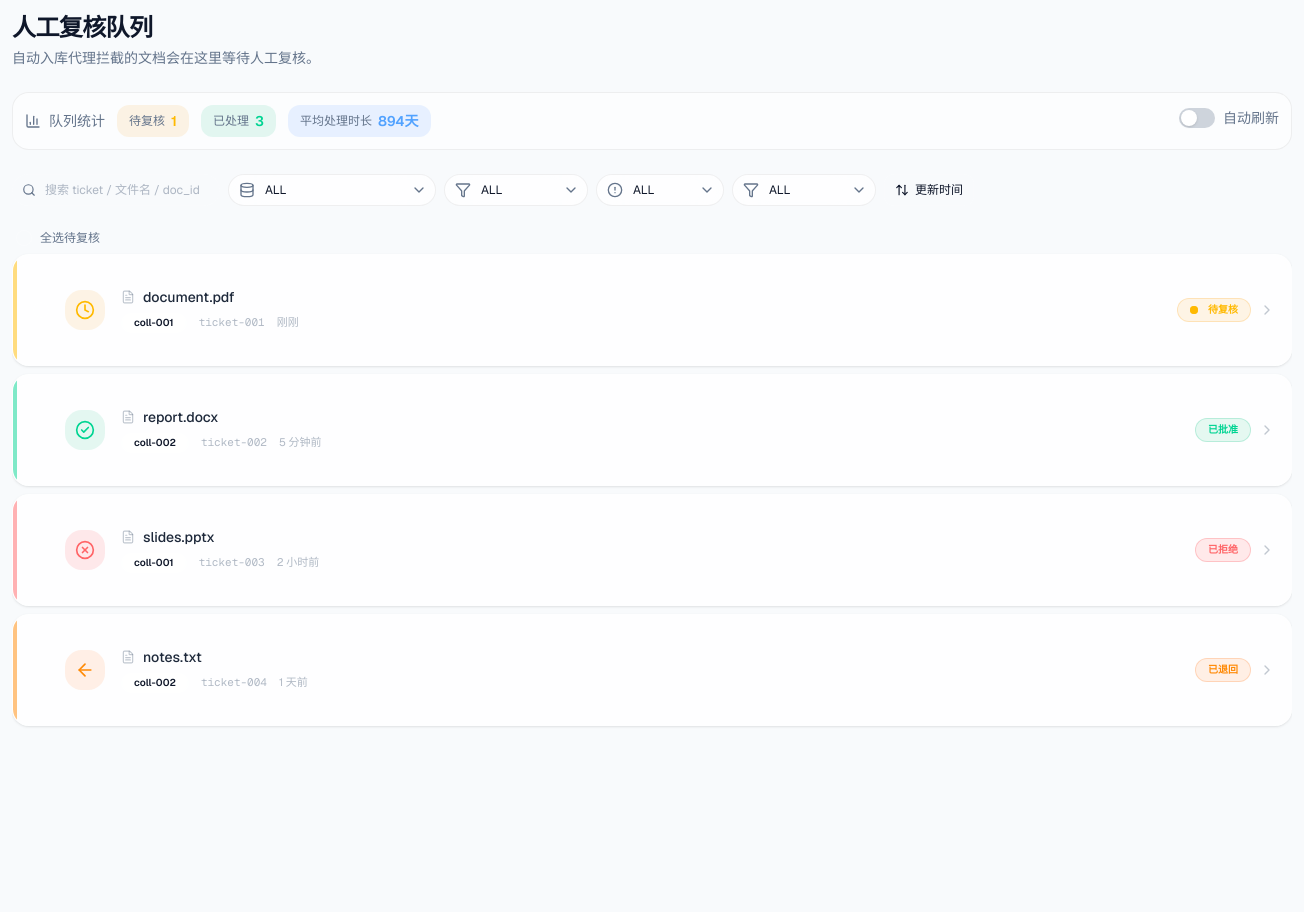
Scenario: ReviewQueuePage › Status Filter › filters tickets when selecting a status
Expected: the text "document.pdf" is shown, [143,287,234,307]
Note: Open status select (second combobox)
Step 1. Click the 2nd dropdown labelled "ALL ▼" → (516, 190), box [444,174,588,206]
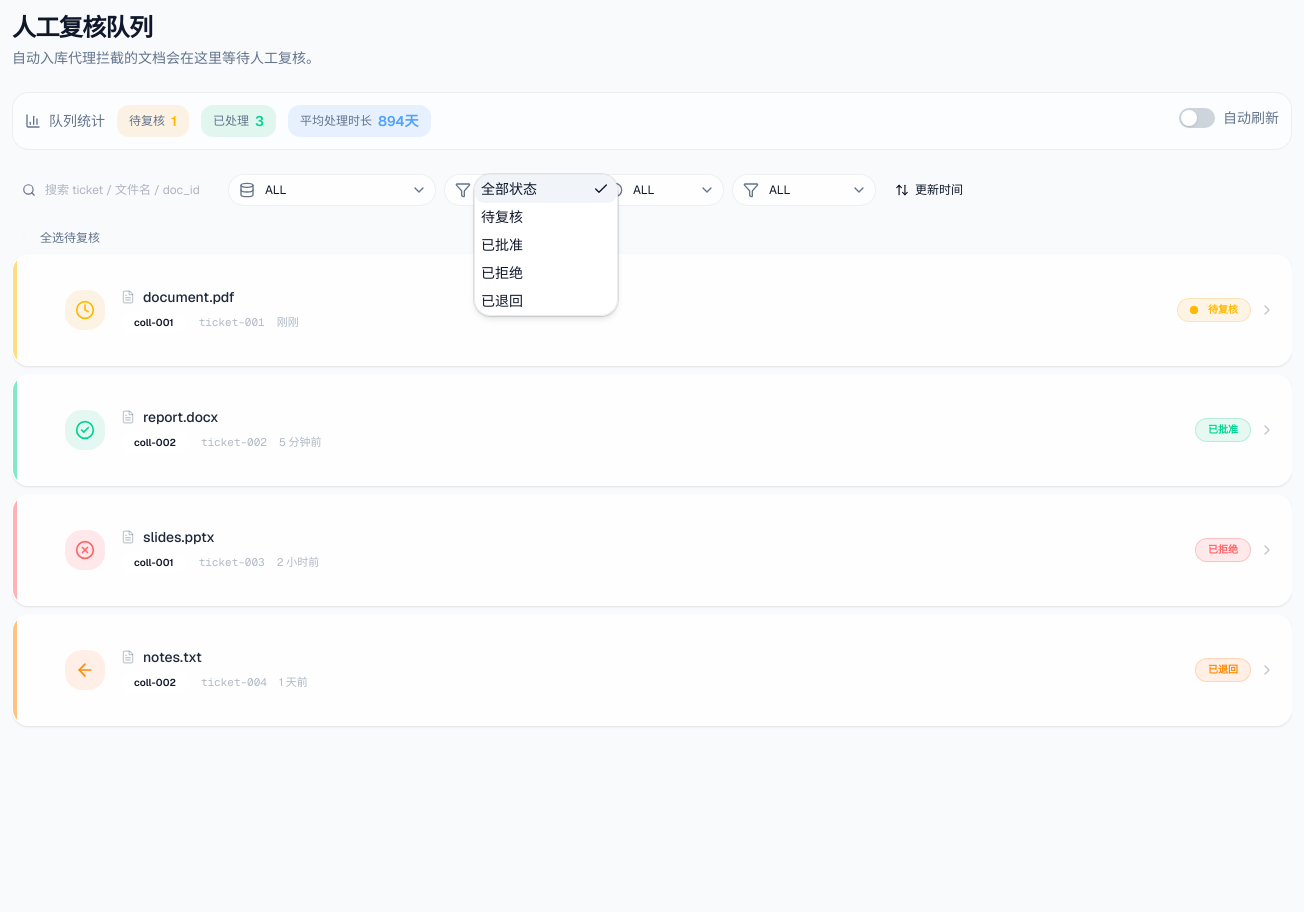
Expected: the option "全部状态" is shown, [475,175,617,203]
Expected: the option "已批准" is shown
Step 2. Click the option "已批准" → (502, 245), box [481,236,523,254]
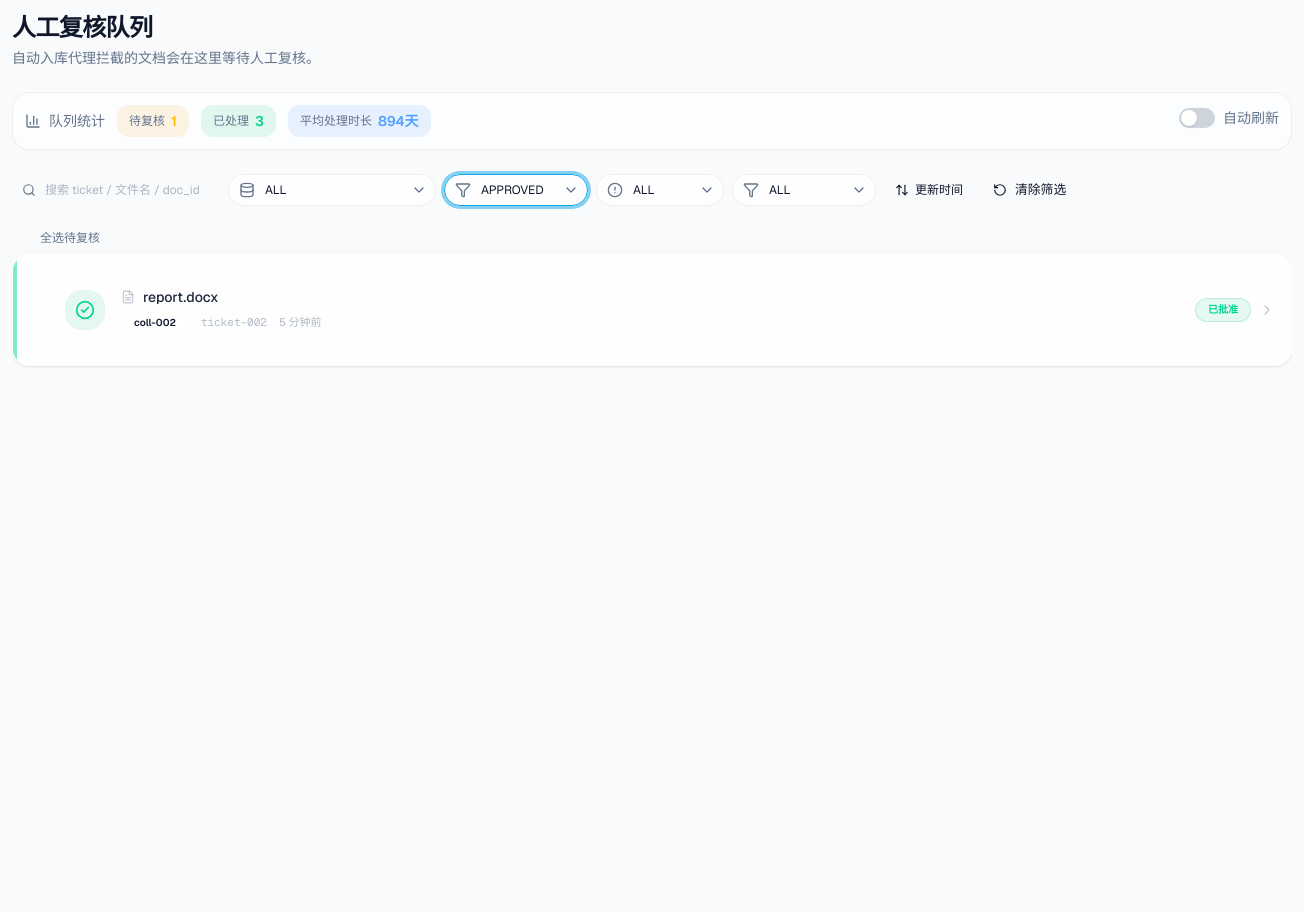
Expected: the text "report.docx" is shown, [143,287,218,307]
Expected: the link "document.pdf" is gone
Expected: the link "slides.pptx" is gone
